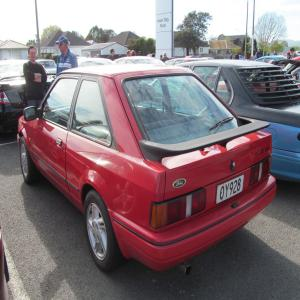Vehicle-registration-plate: (217, 175, 246, 205)
